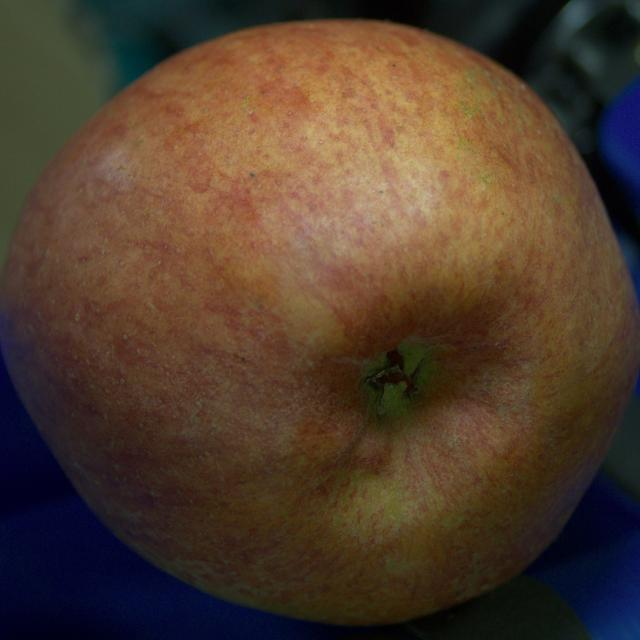apple: (0, 20, 639, 624)
